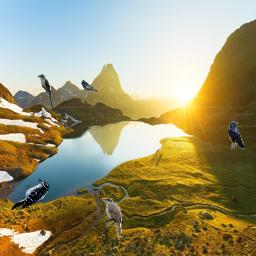Crow: (228, 121, 245, 149), (81, 80, 97, 92)
Cuckoo: (102, 198, 122, 238), (38, 74, 53, 110)
Woodpecker: (10, 179, 50, 210)
